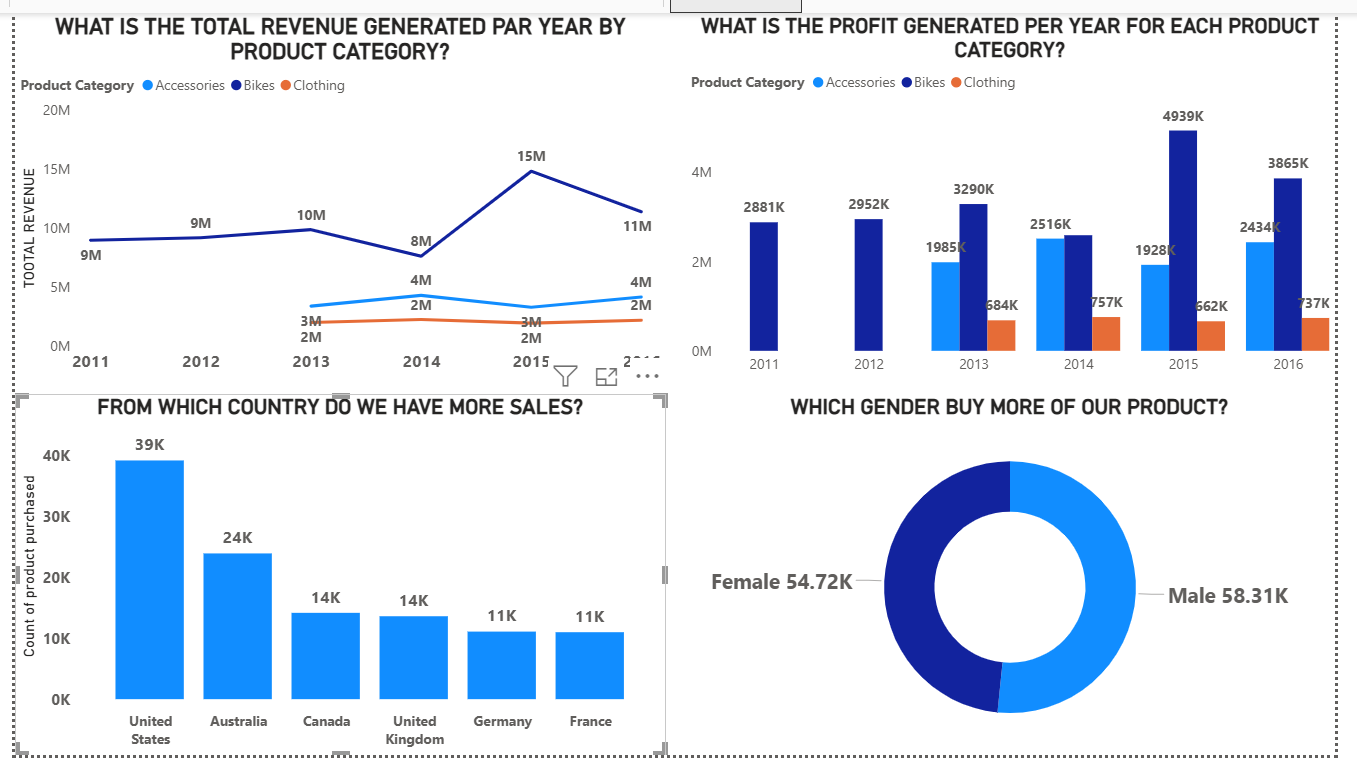

What the dashboard file says about the page in this screenshot:
{"tool":"powerbi","page":{"name":"Page 1","canvas":[1280,720],"ordinal":0},"visuals":[{"type":"lineChart","title":"WHAT IS THE TOTAL REVENUE GENERATED PAR YEAR BY PRODUCT CATEGORY?","fields":{"Category":["Sales.Date.Variation.Date Hierarchy.Year"],"Y":["Sum(Sales.Revenue)"],"Series":["Sales.Product_Category"]},"box":[0,0,631.4,358.9],"z":0},{"type":"clusteredColumnChart","title":"FROM WHICH COUNTRY DO WE HAVE MORE SALES?","fields":{"Category":["Sales.Country"],"Y":["CountNonNull(Sales.Product)"]},"box":[0,369.7,631.7,350.8],"z":1000},{"type":"clusteredColumnChart","title":"WHAT IS THE PROFIT GENERATED PER YEAR FOR EACH PRODUCT CATEGORY?","fields":{"Category":["Sales.Date.Variation.Date Hierarchy.Year","Sales.Date.Variation.Date Hierarchy.Quarter","Sales.Date.Variation.Date Hierarchy.Month","Sales.Date.Variation.Date Hierarchy.Day"],"Y":["Sum(Sales.Profit)"],"Series":["Sales.Product_Category"]},"box":[650.9,0,629.9,359.5],"z":2000},{"type":"donutChart","title":"WHICH GENDER BUY MORE OF OUR PRODUCT?","fields":{"Category":["Sales.Gender"],"Y":["CountNonNull(Sales.Product)"]},"box":[651,369,629,351],"z":3000}]}

Visuals, with their boxes in screenshot pixels (x1, y1, x2, y2), scaled from the page's 1280x720 canvas onto the 1357x763 screenshot:
"WHAT IS THE TOTAL REVENUE GENERATED PAR YEAR BY PRODUCT CATEGORY?" lineChart: (0,0,669,380)
"FROM WHICH COUNTRY DO WE HAVE MORE SALES?" clusteredColumnChart: (0,392,670,762)
"WHAT IS THE PROFIT GENERATED PER YEAR FOR EACH PRODUCT CATEGORY?" clusteredColumnChart: (690,0,1356,381)
"WHICH GENDER BUY MORE OF OUR PRODUCT?" donutChart: (690,391,1356,762)
